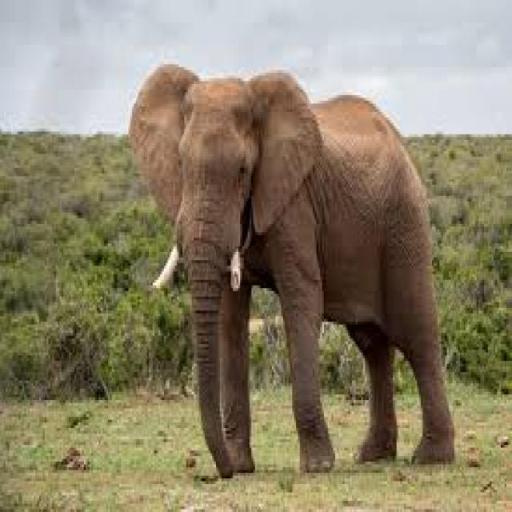Elephant: (126, 61, 456, 476)
